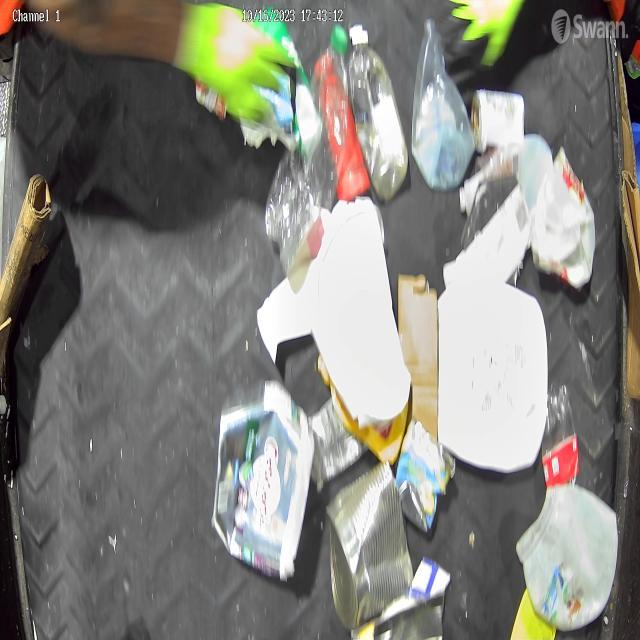can: (327, 464, 413, 630), (470, 84, 528, 154)
milk_jug: (439, 274, 546, 478), (515, 479, 614, 640), (531, 142, 597, 298)
plastic_bottle: (264, 24, 350, 278), (346, 18, 408, 200), (538, 387, 580, 487)
